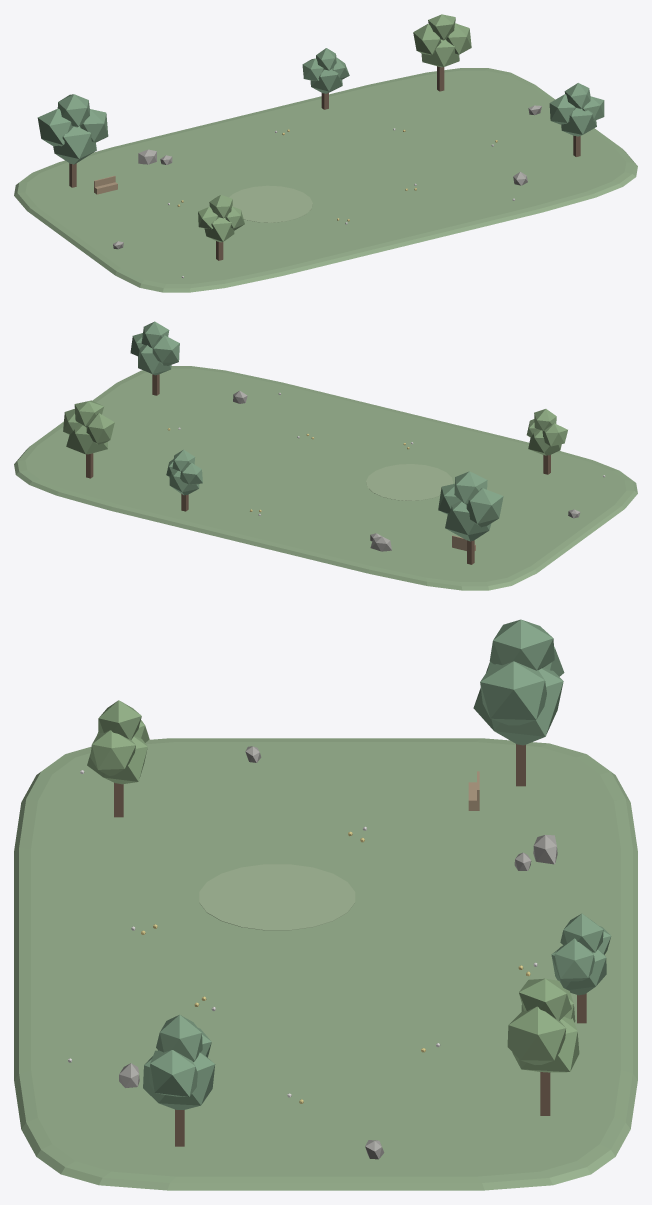
The model's file is set.glb.
3 views of the same model, one above another, from view 1: azimuth 30°, elevation 25°; view 2: azimuth 150°, elevation 25°; view 3: azimuth 270°, elevation 25° (orthographic). The views are drawn at different scales.
Visible parts, largest first — view 1: grass; view 2: grass; view 3: grass.
Part boxes in pixels (bbox=[...]): grass: bbox=[14, 14, 637, 292]; grass: bbox=[14, 321, 637, 590]; grass: bbox=[14, 619, 637, 1190].
Size of the model in its own units: 43.6 by 7.89 by 25.6.
